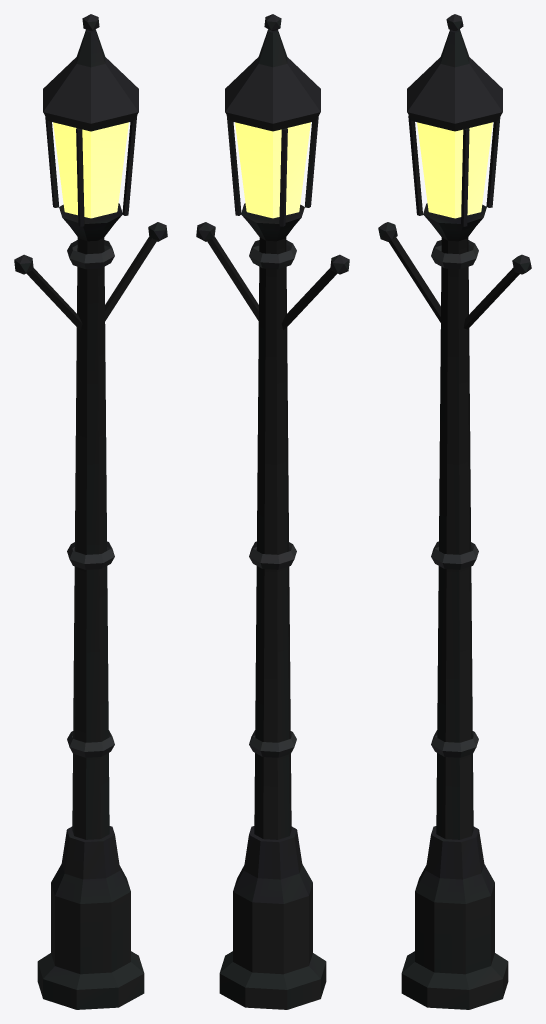
Rendered from rb_lamp-1D7jX8z7.glb.
3 views of the same model, side by side, from view 1: azimuth 30°, elevation 25°; view 2: azimuth 150°, elevation 25°; view 3: azimuth 330°, elevation 25° (orthographic).
Bounding box in the file's own units: 0.6315 × 3.89 × 0.4.
